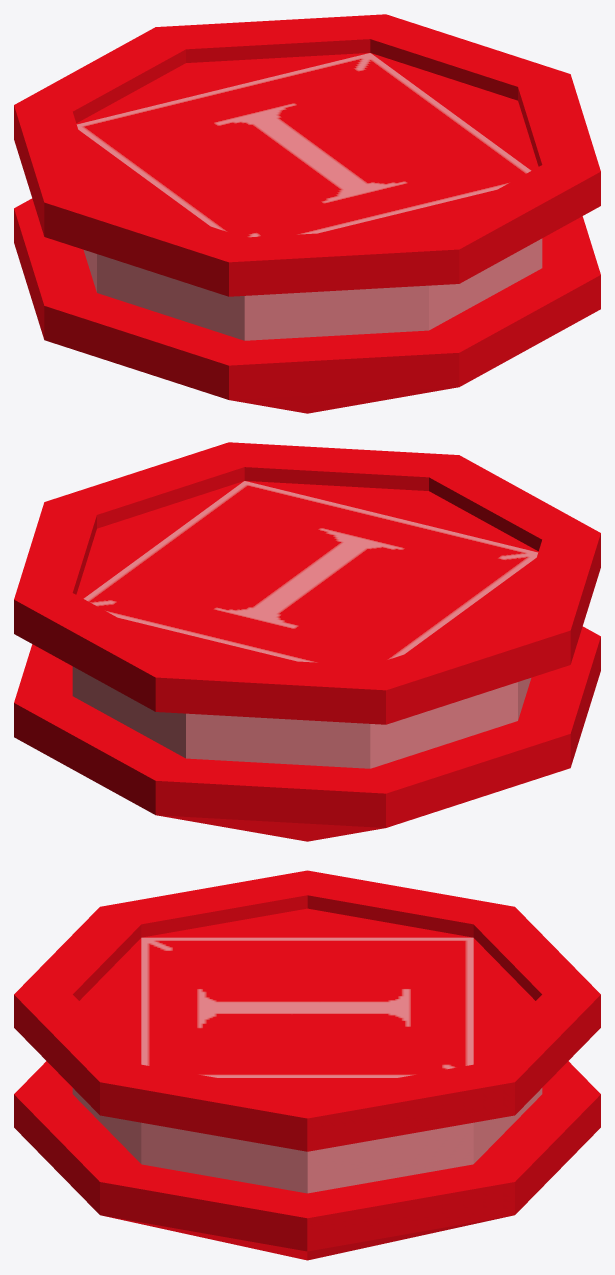
File: Activatable_0.fbx
3 renders of one model, top to bottom at view 1: azimuth 30°, elevation 25°; view 2: azimuth 150°, elevation 25°; view 3: azimuth 270°, elevation 25°, orthographic. The views are drawn at different scales.
Parts seen in each view (by area): view 1: Activatable_0; view 2: Activatable_0; view 3: Activatable_0.
Boxes of the visible parts, x1=… form: Activatable_0: x1=14, y1=14, x2=600, y2=413; Activatable_0: x1=14, y1=442, x2=600, y2=841; Activatable_0: x1=14, y1=870, x2=600, y2=1260.
Size of the model in its own units: 400 by 200 by 400.
1 material, 1 textured.
